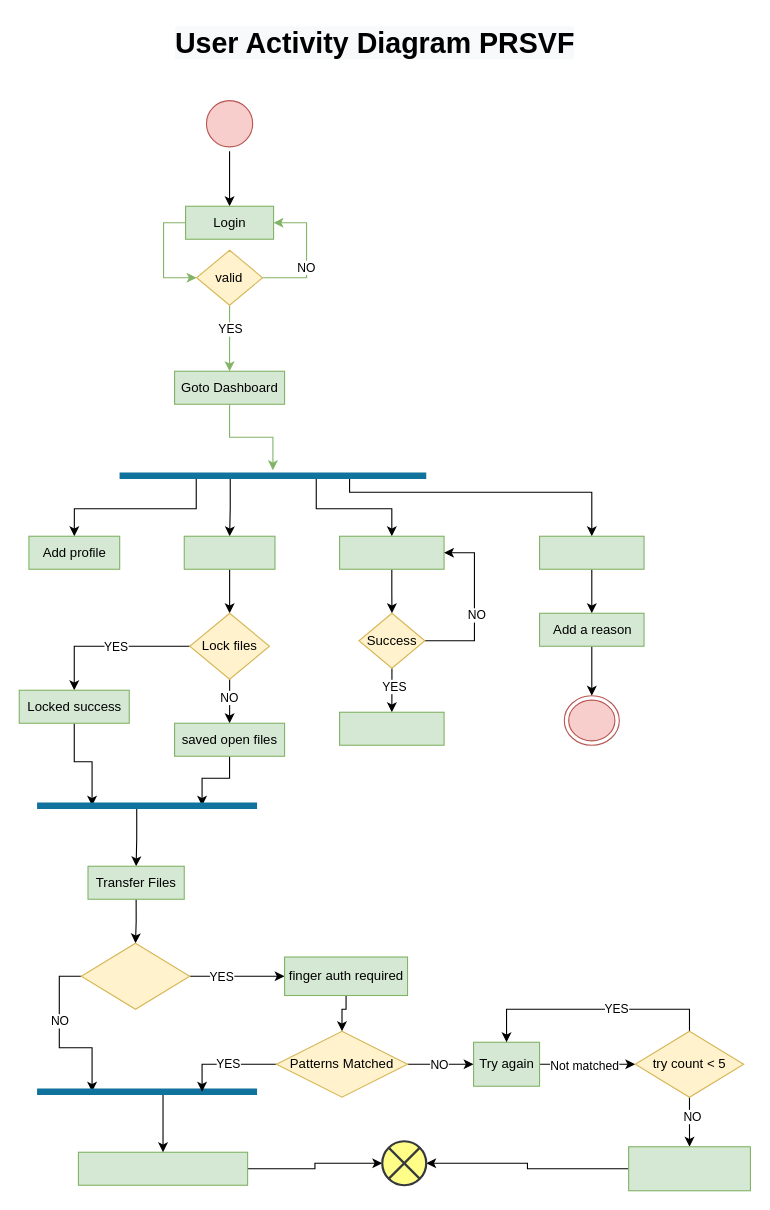
Some shapes in this 770 by 1210 pixel diagram are drawn without their labels. Each missing label, with the box of its shape:
Add fingerprints: (338, 535, 444, 569)
delete permanent: (628, 1146, 750, 1191)
Files Locked?: (80, 942, 190, 1009)
fingerprint saved: (338, 711, 444, 745)
Report a User: (538, 535, 644, 569)
Transfer success message: (77, 1151, 248, 1185)
Upload media: (183, 535, 275, 569)
